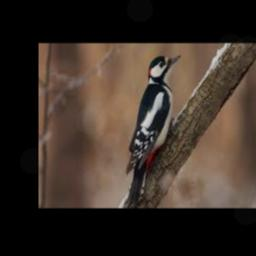Woodpecker: (126, 54, 181, 208)
